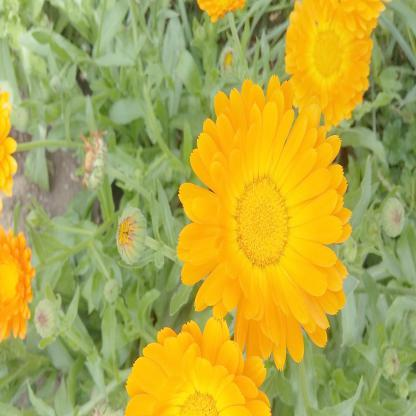marigold: (181, 77, 348, 359), (125, 318, 267, 416), (287, 1, 372, 118)
